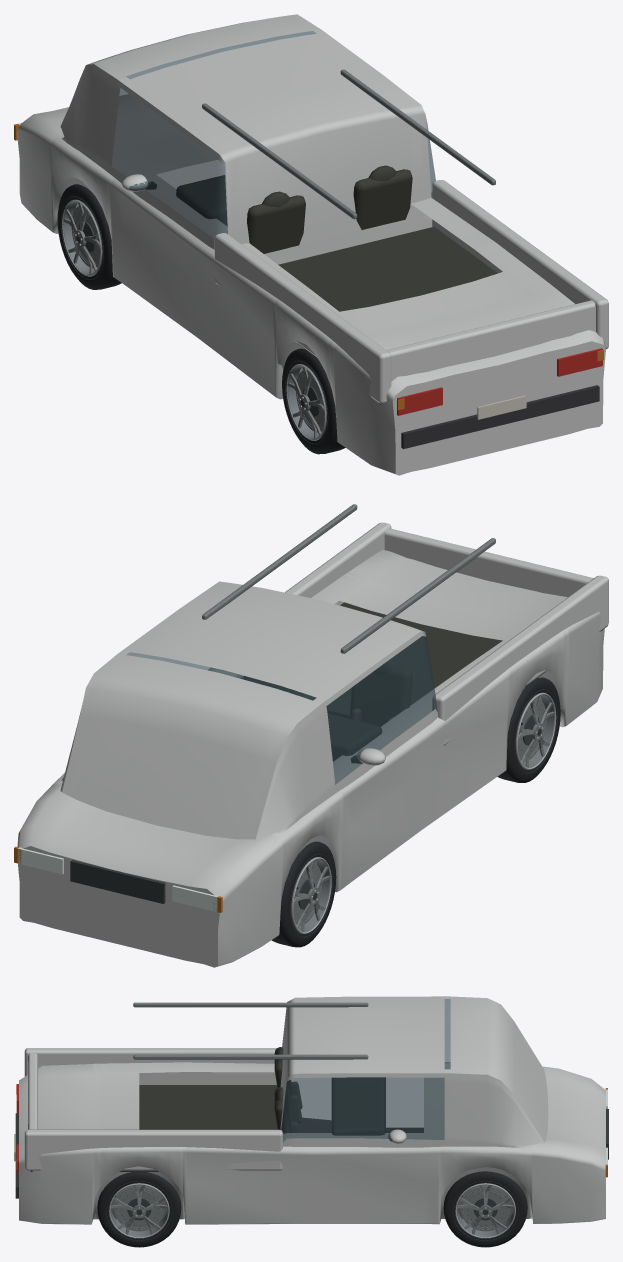
File: summit-utility.glb
The picture shows the model from 3 angles, top to bottom: view 1: azimuth 30°, elevation 25°; view 2: azimuth 150°, elevation 25°; view 3: azimuth 270°, elevation 25°; orthographic projection. The views are drawn at different scales.
Visible parts, largest first — view 1: paint, trim, glass, wheelSurface (×2), brake; view 2: paint, trim, glass, wheelSurface (×2), head; view 3: paint, trim, glass, wheelSurface (×2).
Part boxes in pixels (x1=…): paint: x1=17, y1=14, x2=608, y2=475; trim: x1=145, y1=69, x2=599, y2=448; glass: x1=112, y1=31, x2=435, y2=238; wheelSurface (×2): x1=57, y1=184, x2=345, y2=454; brake: x1=397, y1=348, x2=602, y2=415; paint: x1=17, y1=522, x2=608, y2=967; trim: x1=70, y1=504, x2=602, y2=903; glass: x1=127, y1=636, x2=437, y2=784; wheelSurface (×2): x1=271, y1=677, x2=560, y2=947; head: x1=17, y1=847, x2=218, y2=911; paint: x1=19, y1=996, x2=605, y2=1224; trim: x1=14, y1=1002, x2=608, y2=1198; glass: x1=281, y1=999, x2=450, y2=1142; wheelSurface (×2): x1=97, y1=1171, x2=527, y2=1247.
Bounding box in the file's own units: 2.17 × 1.81 × 5.53.
